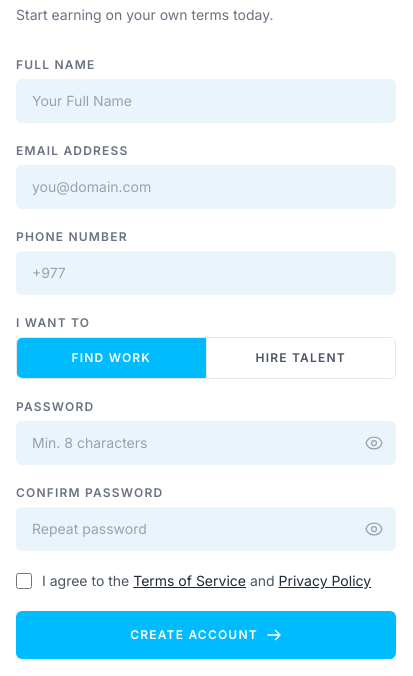
RegisterPage Component Tests › shows validation error if terms of service checkbox is left unchecked
(page scrolled)
What coordinates should you click on to do the following:
click the button "CREATE ACCOUNT"
I would click on:
 (206, 635)
Its box is [16,611,396,659].
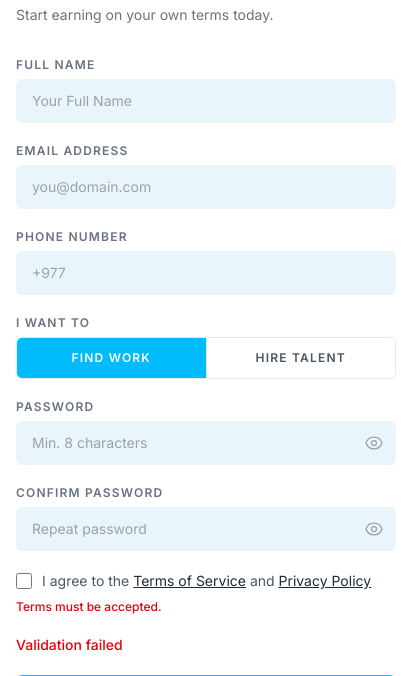
Expected: the text "Terms must be accepted." is shown, [16,599,162,614]
